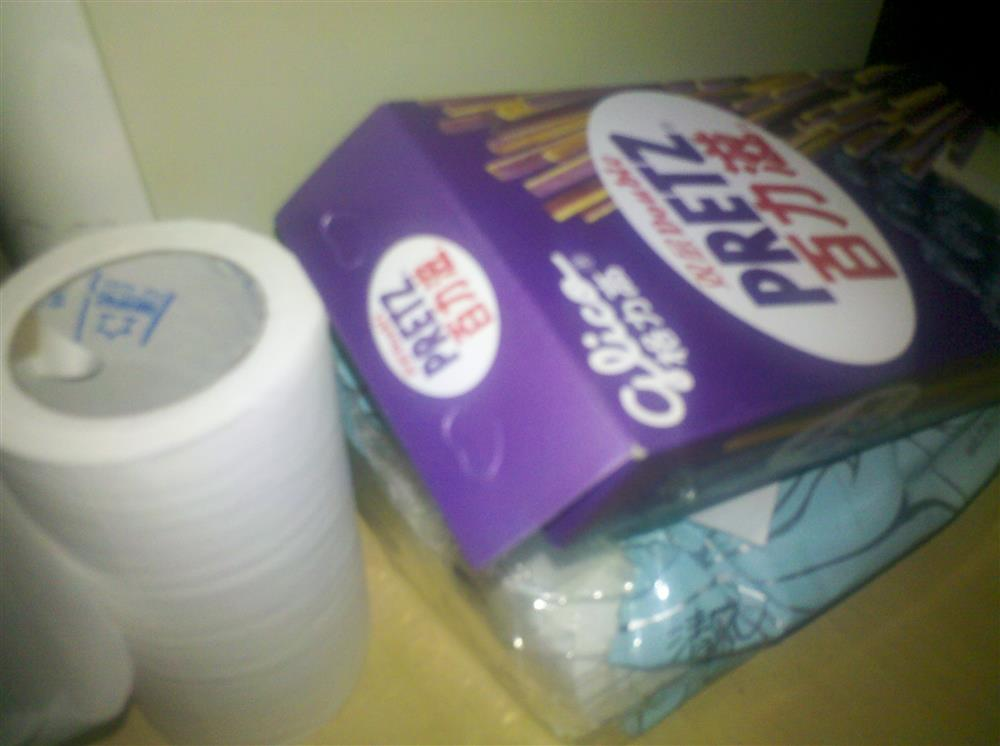Pretz: (359, 74, 990, 406)
